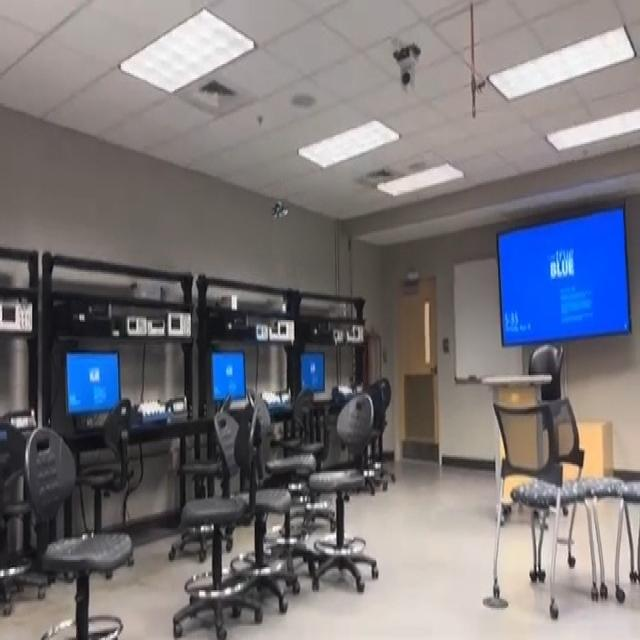drone: (266, 197, 298, 233)
